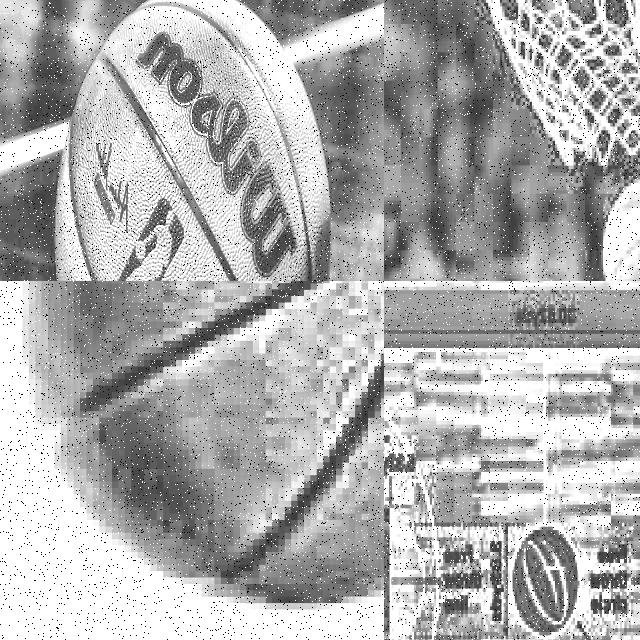Basketball: (55, 0, 330, 281), (603, 180, 640, 281)
